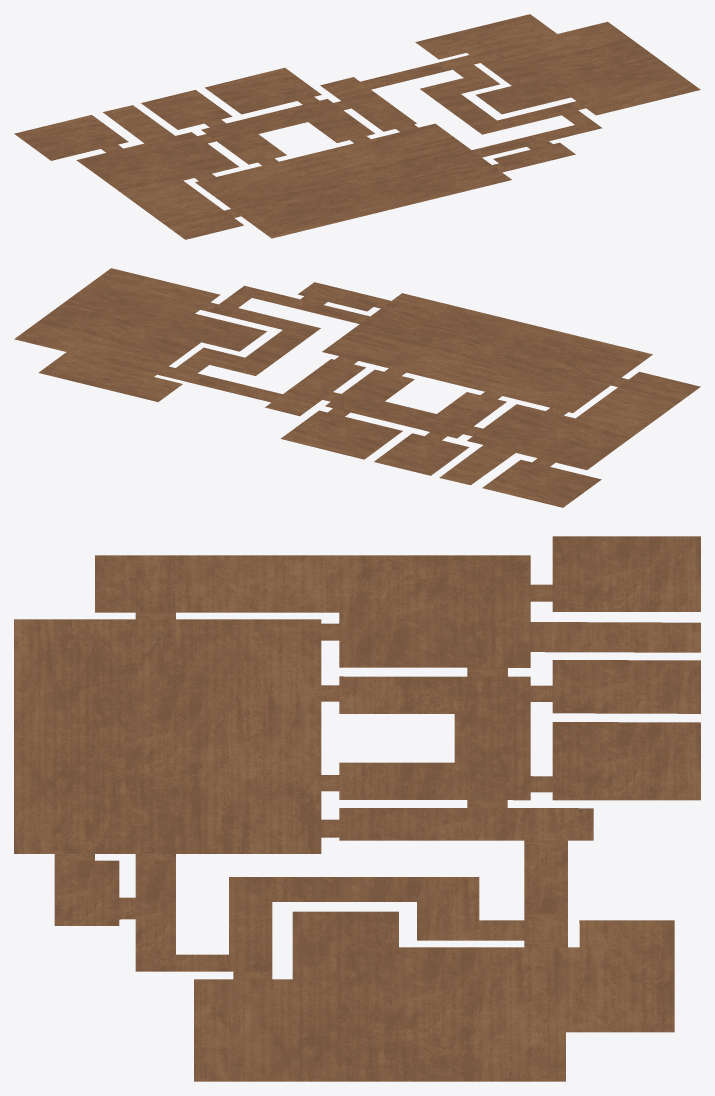
Rendered from suelo.fbx.
3 renders of one model, top to bottom at view 1: azimuth 30°, elevation 25°; view 2: azimuth 150°, elevation 25°; view 3: azimuth 270°, elevation 25°, orthographic. The views are drawn at different scales.
Parts seen in each view (by area): view 1: ESCENARIO.002; view 2: ESCENARIO.002; view 3: ESCENARIO.002.
Boxes of the visible parts, left/top/right/bottom form: ESCENARIO.002: left=14, top=14, right=700, bottom=239; ESCENARIO.002: left=14, top=268, right=700, bottom=507; ESCENARIO.002: left=14, top=536, right=700, bottom=1081.
Bounding box in the file's own units: 6808 × 5.65 × 3623.
